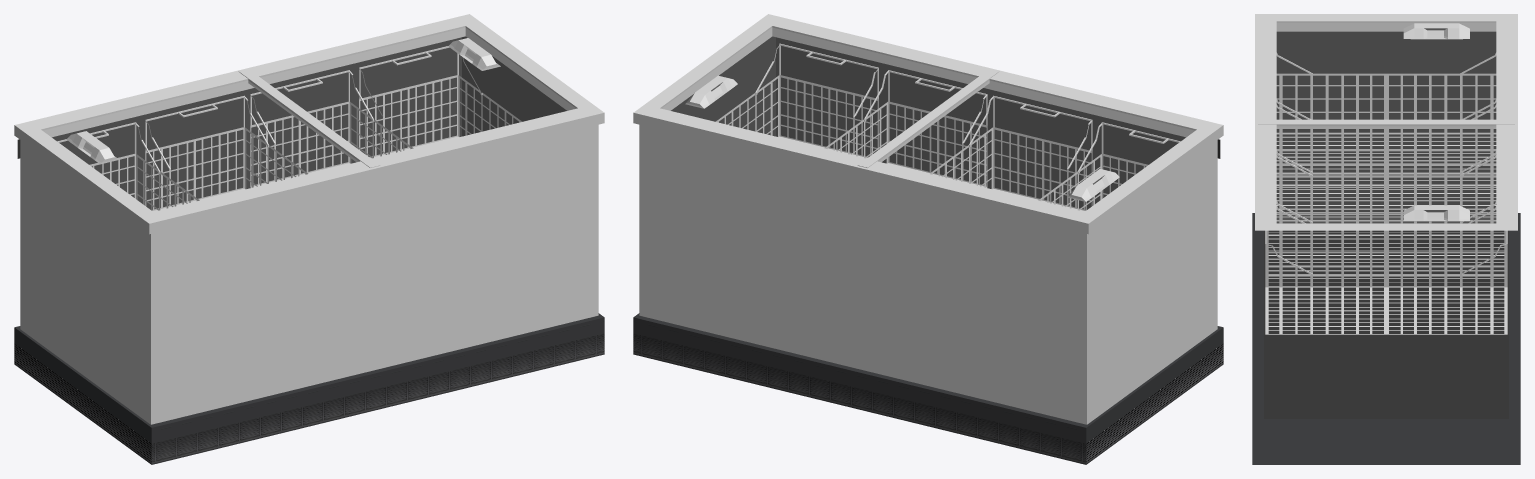
File: ChestRefrigerator.glb
3 renders of one model, left to right at view 1: azimuth 30°, elevation 25°; view 2: azimuth 150°, elevation 25°; view 3: azimuth 270°, elevation 25°, orthographic. The views are drawn at different scales.
Visible parts, largest first — view 1: Cube.5952; view 2: Cube.5952; view 3: Cube.5952.
Part boxes in pixels (x1,y1,x2,y2): Cube.5952: (14,14,604,464); Cube.5952: (633,14,1223,464); Cube.5952: (1252,14,1520,464).
Bounding box in the file's own units: 1.77 × 0.9163 × 0.9257.
3 materials, 1 textured.
